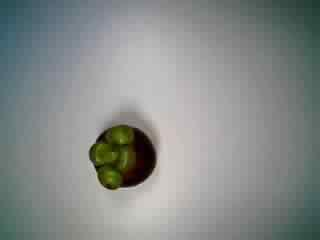mangosteen: (83, 118, 160, 197)
